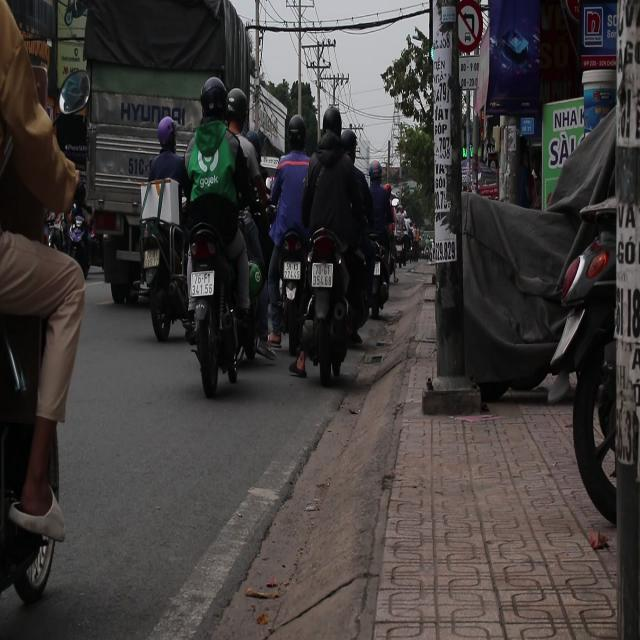motorbike: (269, 221, 359, 386), (183, 212, 248, 395), (138, 178, 190, 345)
